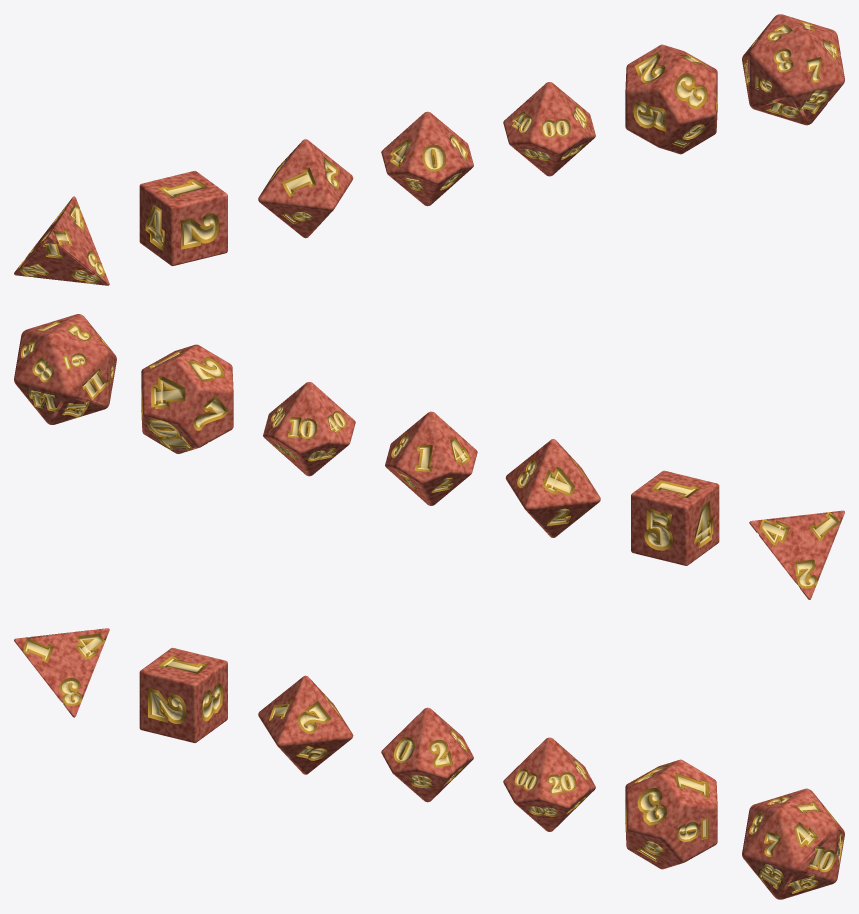
The model's file is rose-gold.glb.
The picture shows the model from 3 angles, top to bottom: view 1: azimuth 30°, elevation 25°; view 2: azimuth 150°, elevation 25°; view 3: azimuth 330°, elevation 25°; orthographic projection.
Parts seen in each view (by area): view 1: d20, d12, d6, d100, d10, d8, d4; view 2: d20, d12, d6, d100, d10, d8, d4; view 3: d20, d12, d6, d8, d10, d100, d4.
Boxes of the visible parts, x1=… form: d20: x1=742, y1=14, x2=844, y2=125; d12: x1=625, y1=44, x2=717, y2=154; d6: x1=139, y1=171, x2=227, y2=266; d100: x1=503, y1=82, x2=595, y2=176; d10: x1=381, y1=111, x2=473, y2=206; d8: x1=258, y1=139, x2=353, y2=238; d4: x1=14, y1=196, x2=109, y2=285; d20: x1=14, y1=314, x2=116, y2=424; d12: x1=141, y1=344, x2=233, y2=453; d6: x1=631, y1=470, x2=719, y2=565; d100: x1=263, y1=382, x2=355, y2=476; d10: x1=385, y1=411, x2=477, y2=505; d8: x1=505, y1=439, x2=600, y2=537; d4: x1=749, y1=510, x2=844, y2=599; d20: x1=742, y1=788, x2=844, y2=899; d12: x1=625, y1=759, x2=717, y2=869; d6: x1=139, y1=647, x2=227, y2=742; d8: x1=258, y1=675, x2=353, y2=774; d10: x1=381, y1=707, x2=473, y2=802; d100: x1=503, y1=737, x2=595, y2=831; d4: x1=14, y1=628, x2=109, y2=717.
Bounding box in the file's own units: 21.14 × 2.47 × 2.47.
Materials: 21 (7 with a texture image).
